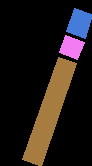parkingspot: (22, 57, 76, 166), (66, 8, 92, 38), (59, 35, 84, 59)
